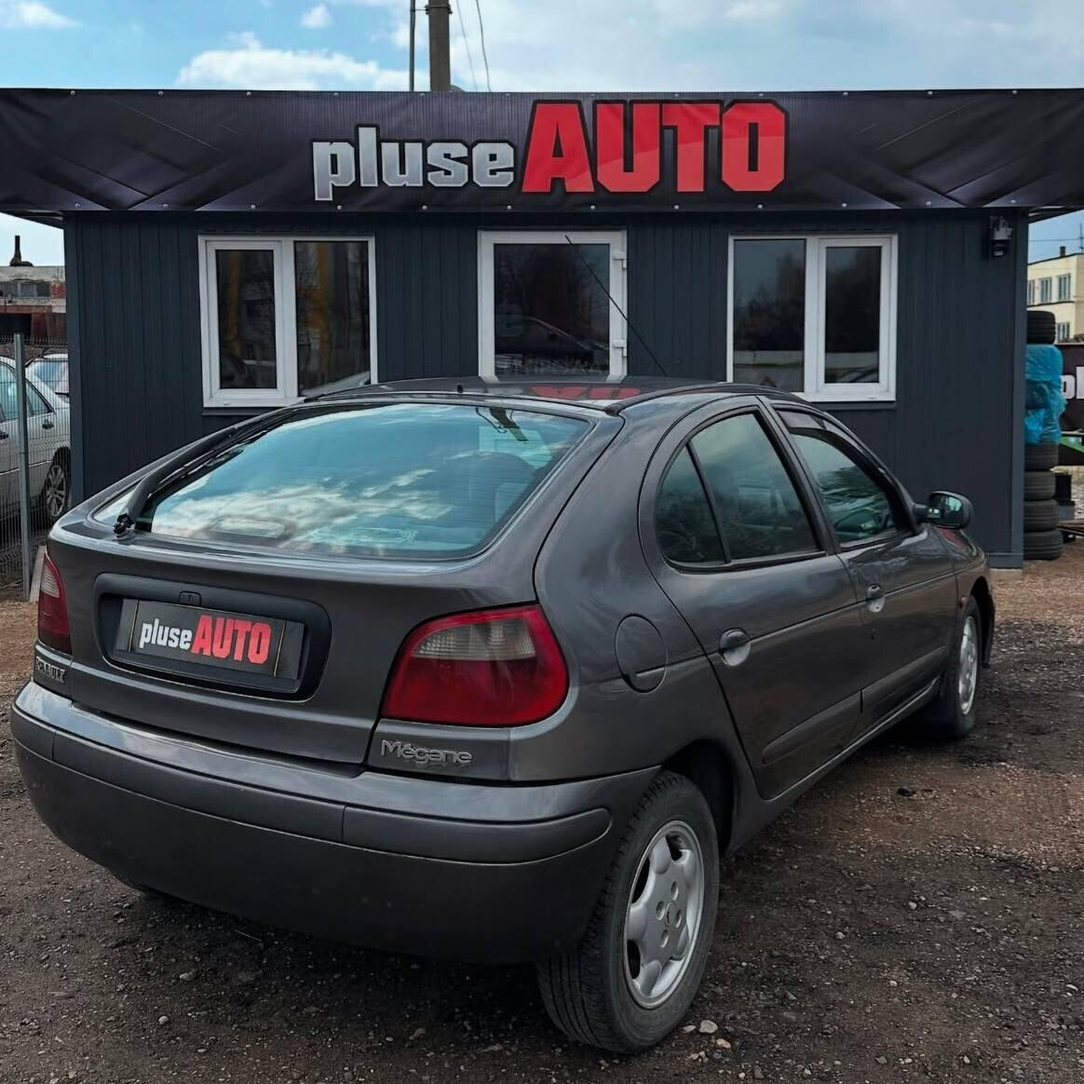Megane_1999-2003: (11, 365, 995, 1028)
